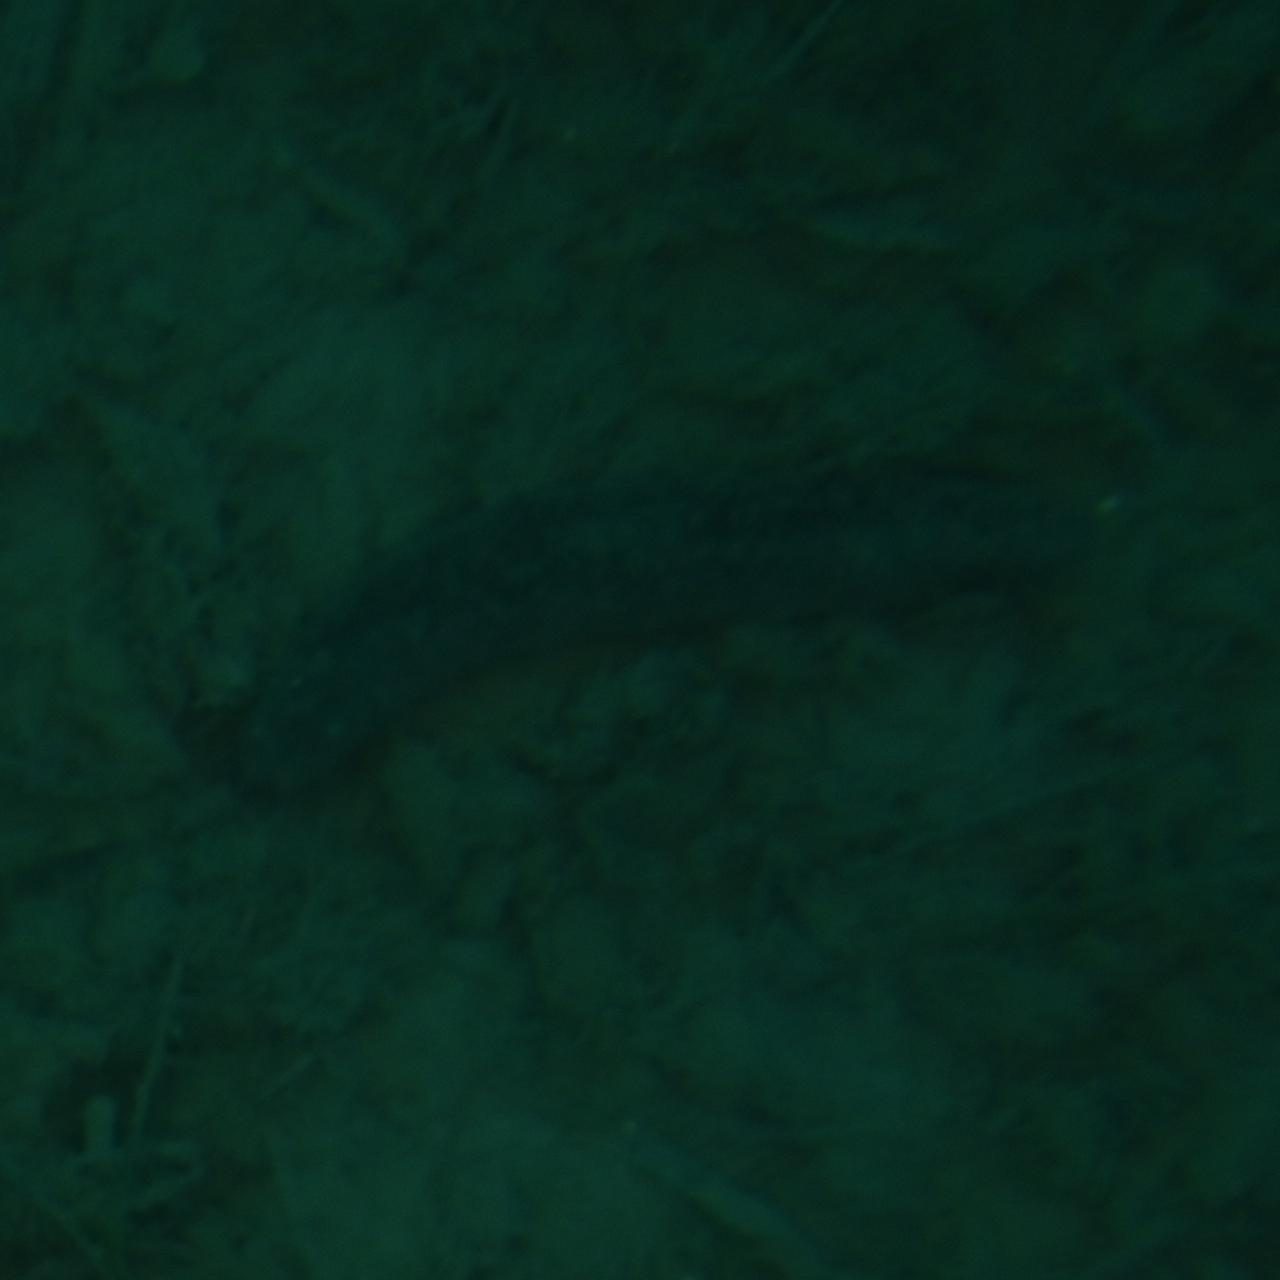Holothuria tubulosa: (203, 442, 1077, 838)
